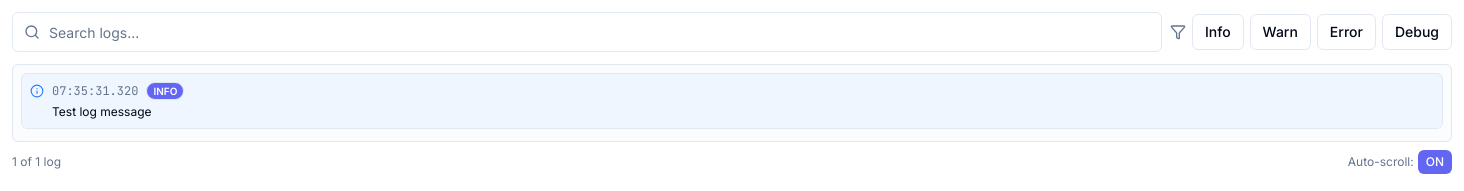
Test case: LogViewer › should show clear filters button only when filters active
Expected: the button "clear" is not shown
// Apply filter
Click the button "info".
click(1218, 32)  # box [1192,14,1244,50]
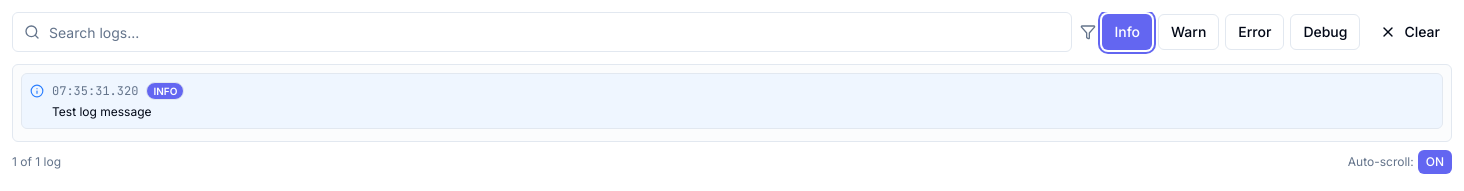
Expected: the button "Clear" is shown, [1368,14,1452,50]
